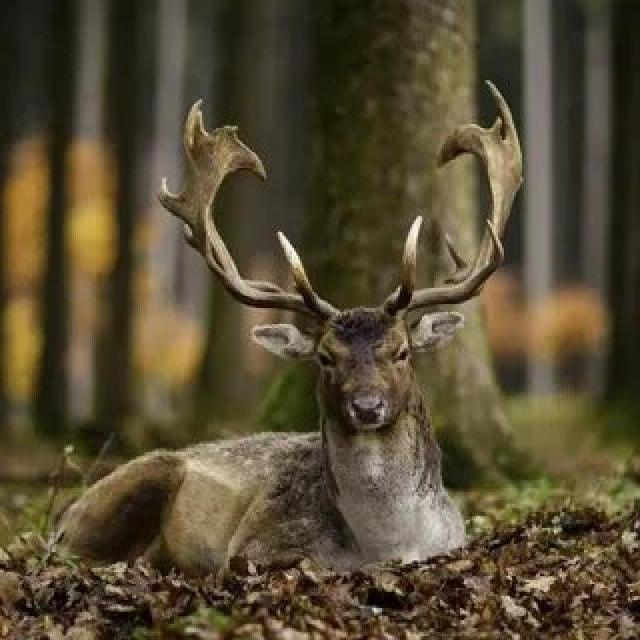deer: (79, 104, 576, 631)
